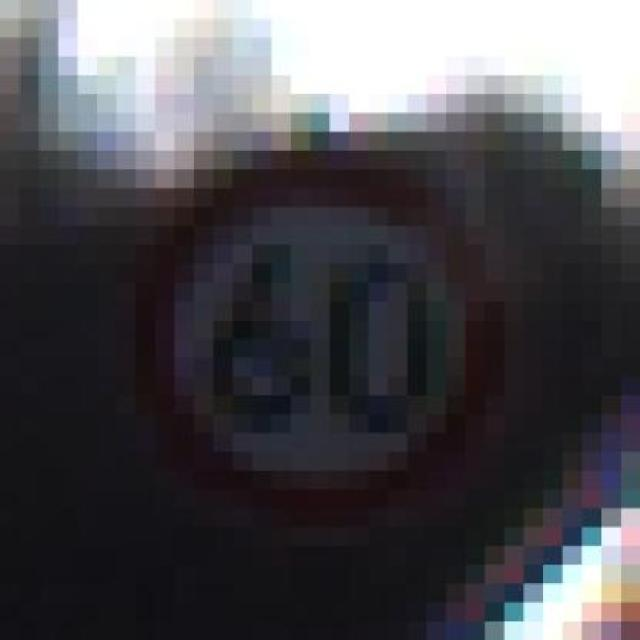forb_speed_over_60: (130, 153, 504, 516)
